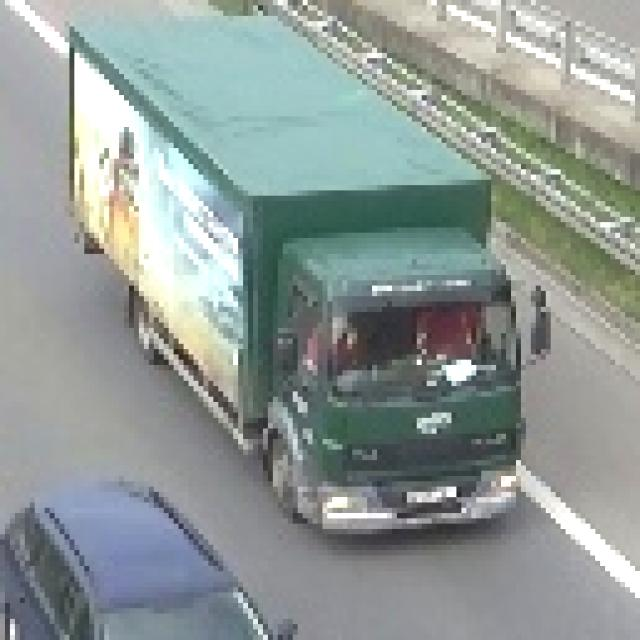truck: (66, 1, 547, 535)
